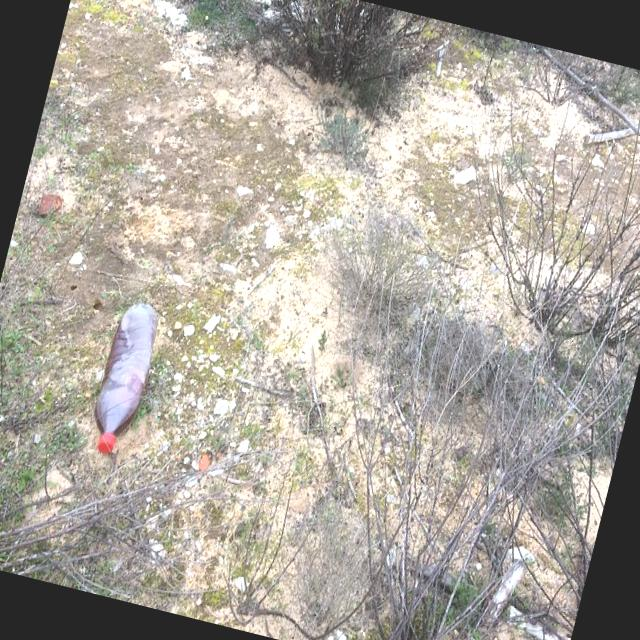Trash: (84, 298, 166, 460)
